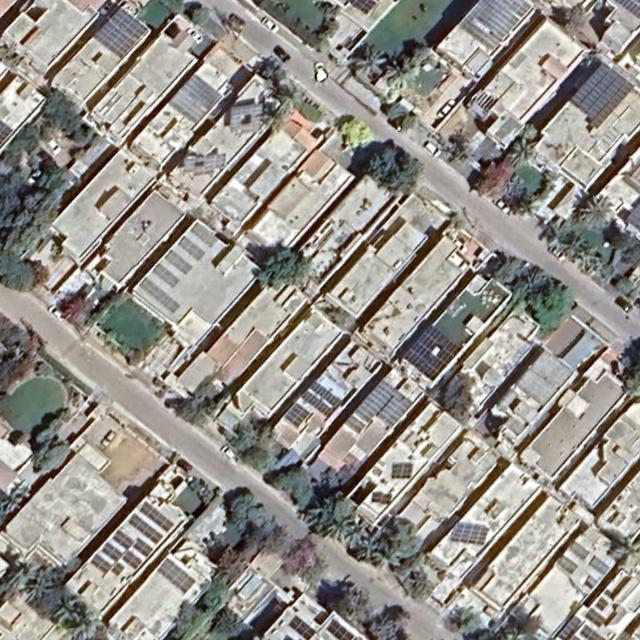solar panel: (565, 63, 637, 134), (343, 379, 420, 440), (453, 0, 536, 52), (511, 350, 575, 409), (399, 323, 461, 383), (92, 6, 155, 62), (166, 73, 223, 124), (151, 557, 199, 599), (134, 498, 182, 537), (138, 276, 182, 316), (565, 542, 612, 579), (112, 527, 159, 563), (276, 610, 330, 639), (445, 521, 494, 550), (125, 512, 166, 546), (101, 541, 145, 570), (325, 616, 373, 639), (299, 389, 335, 419), (175, 233, 210, 263), (281, 400, 313, 432), (308, 381, 343, 409), (187, 222, 222, 250), (232, 104, 264, 134), (89, 554, 127, 578), (551, 613, 585, 639), (164, 250, 196, 276), (153, 260, 181, 289), (183, 155, 226, 173), (340, 2, 381, 20), (611, 0, 639, 26), (554, 555, 583, 579), (583, 606, 610, 629), (367, 491, 400, 508), (589, 591, 612, 614), (0, 120, 17, 151), (577, 624, 612, 639), (626, 200, 639, 239), (389, 461, 415, 480)
